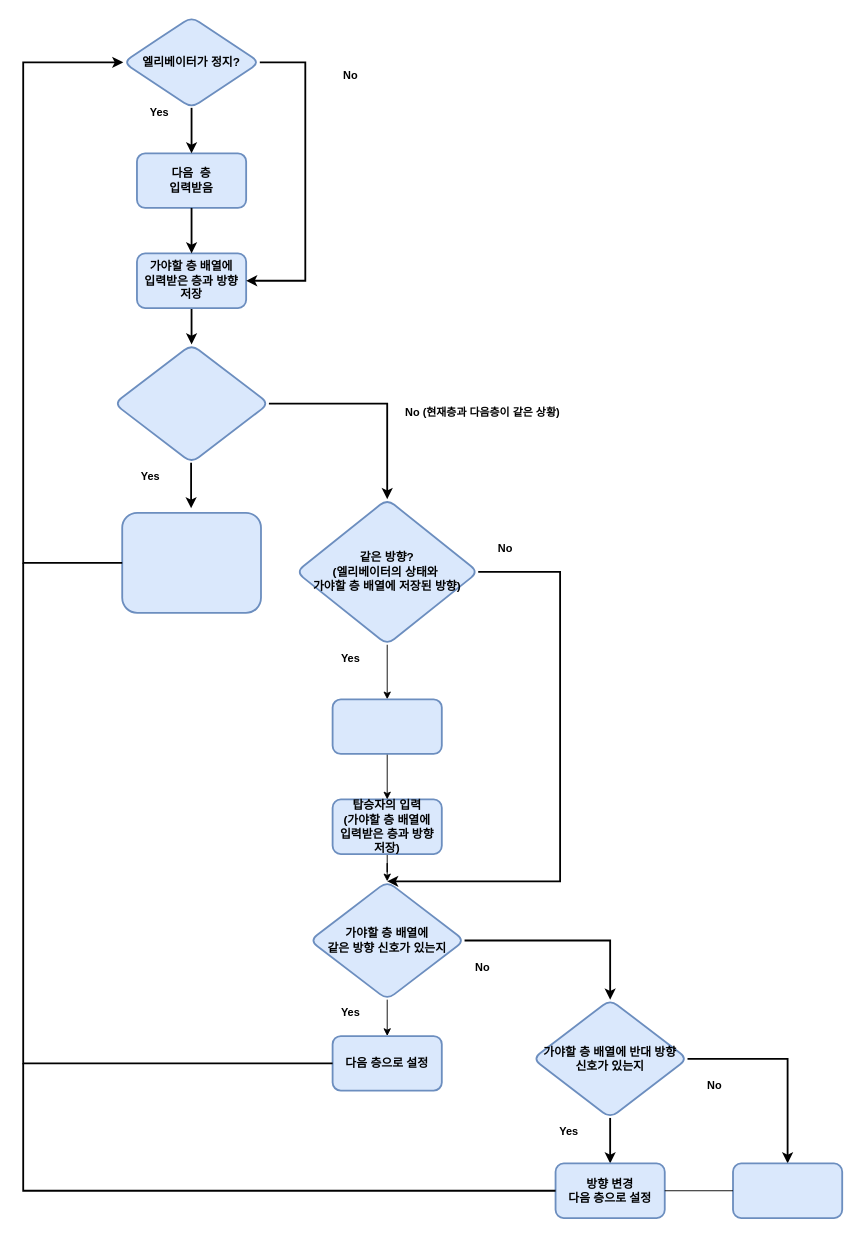
This 858x1234 diagram has some shape labels left out. The centre of each missing label's shape, as x and y in pixels:
방문 (가야할 층 배열 에서 삭제): (386,726)
엘리베이터 정지: (787,1190)
현재 층과 다음 층이 다른가?: (191,403)
현재층을 다음층에 맞게 1씩 증감 엘리베이터 상태 또한 상승 또는 하강으로 변경: (191,562)
